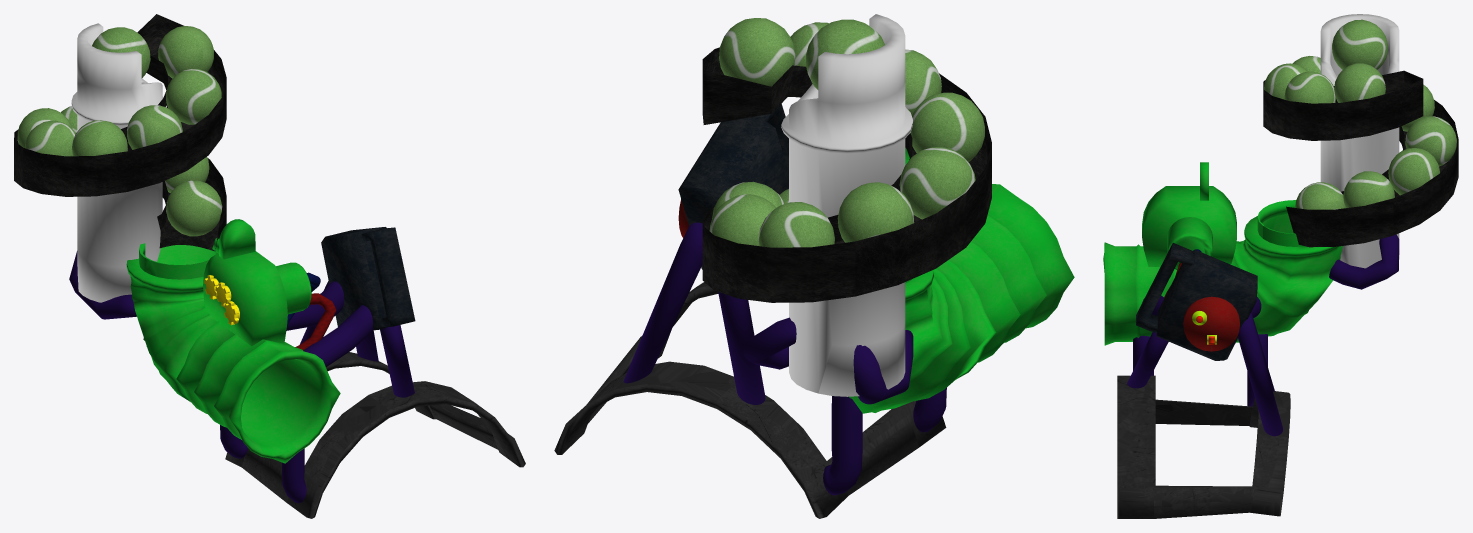
Rendered from Tennis cannon.fbx.
The picture shows the model from 3 angles, left to right: view 1: azimuth 30°, elevation 25°; view 2: azimuth 150°, elevation 25°; view 3: azimuth 270°, elevation 25°; orthographic projection. The views are drawn at different scales.
Visible parts, largest first — view 1: Пушка, шар.011, шар.004, шар.002, шар.003, шар.006, шар.005, шар.001, шар.008, шар.010; view 2: Пушка, шар.002, шар.005, шар.006, шар.008, шар.007, шар.001, шар.009, шар.003, шар.010, шар.004; view 3: Пушка, шар.001, шар.009, шар.007, шар.002, шар.010, шар.004, шар.011, шар.003.
Boxes of the visible parts, x1,y1,x2,y2 form: Пушка: (14, 14, 525, 518); шар.011: (166, 180, 222, 236); шар.004: (166, 69, 221, 124); шар.002: (158, 26, 213, 78); шар.003: (127, 105, 182, 149); шар.006: (72, 120, 127, 156); шар.005: (25, 120, 75, 156); шар.001: (92, 27, 150, 78); шар.008: (17, 108, 72, 147); шар.010: (165, 157, 209, 192); Пушка: (554, 14, 1074, 518); шар.002: (719, 18, 795, 86); шар.005: (899, 146, 975, 219); шар.006: (910, 92, 984, 161); шар.008: (837, 182, 914, 242); шар.007: (758, 202, 834, 247); шар.001: (805, 19, 884, 89); шар.009: (709, 194, 776, 245); шар.003: (905, 49, 941, 115); шар.010: (712, 181, 784, 218); шар.004: (790, 22, 828, 66); Пушка: (1103, 14, 1458, 518); шар.001: (1332, 19, 1387, 69); шар.009: (1388, 148, 1439, 195); шар.007: (1405, 116, 1456, 166); шар.002: (1334, 63, 1385, 102); шар.010: (1343, 171, 1394, 207); шар.004: (1284, 71, 1335, 103); шар.011: (1295, 182, 1345, 209); шар.003: (1264, 63, 1308, 99).
Bounding box in the file's own units: 268 × 287 × 244.
